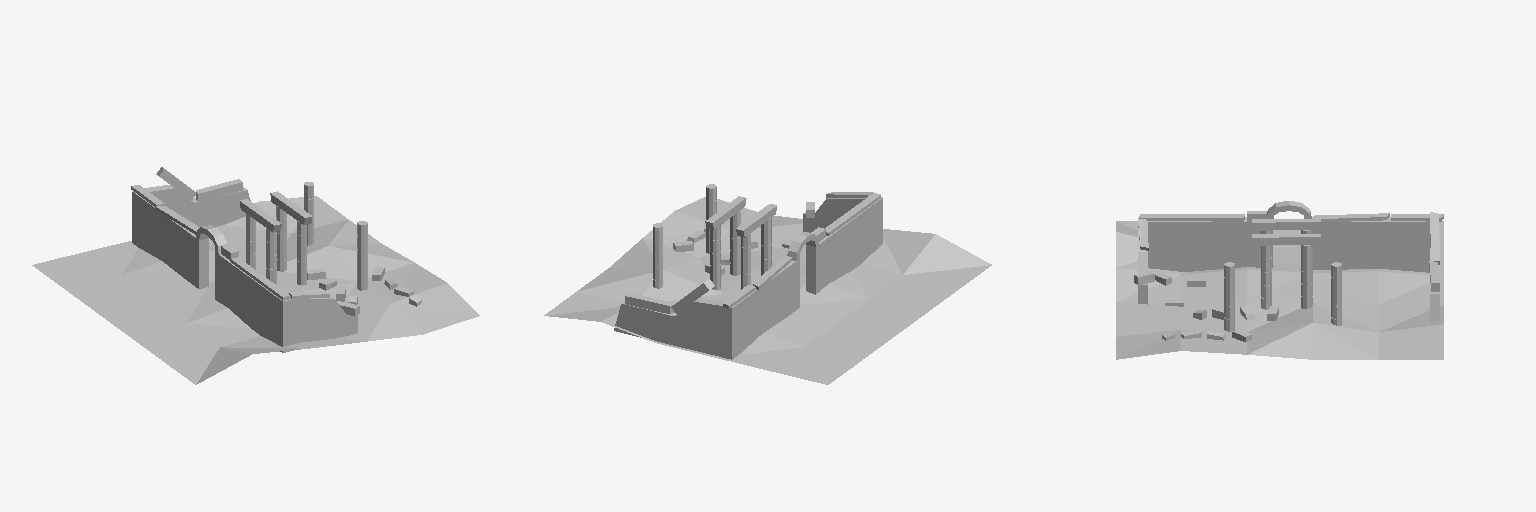
The model's file is ruinas.obj.
The picture shows the model from 3 angles: view 1: azimuth 30°, elevation 25°; view 2: azimuth 150°, elevation 25°; view 3: azimuth 270°, elevation 25°; orthographic projection.
Bounding box in the file's own units: 12.96 × 3.42 × 12.96.